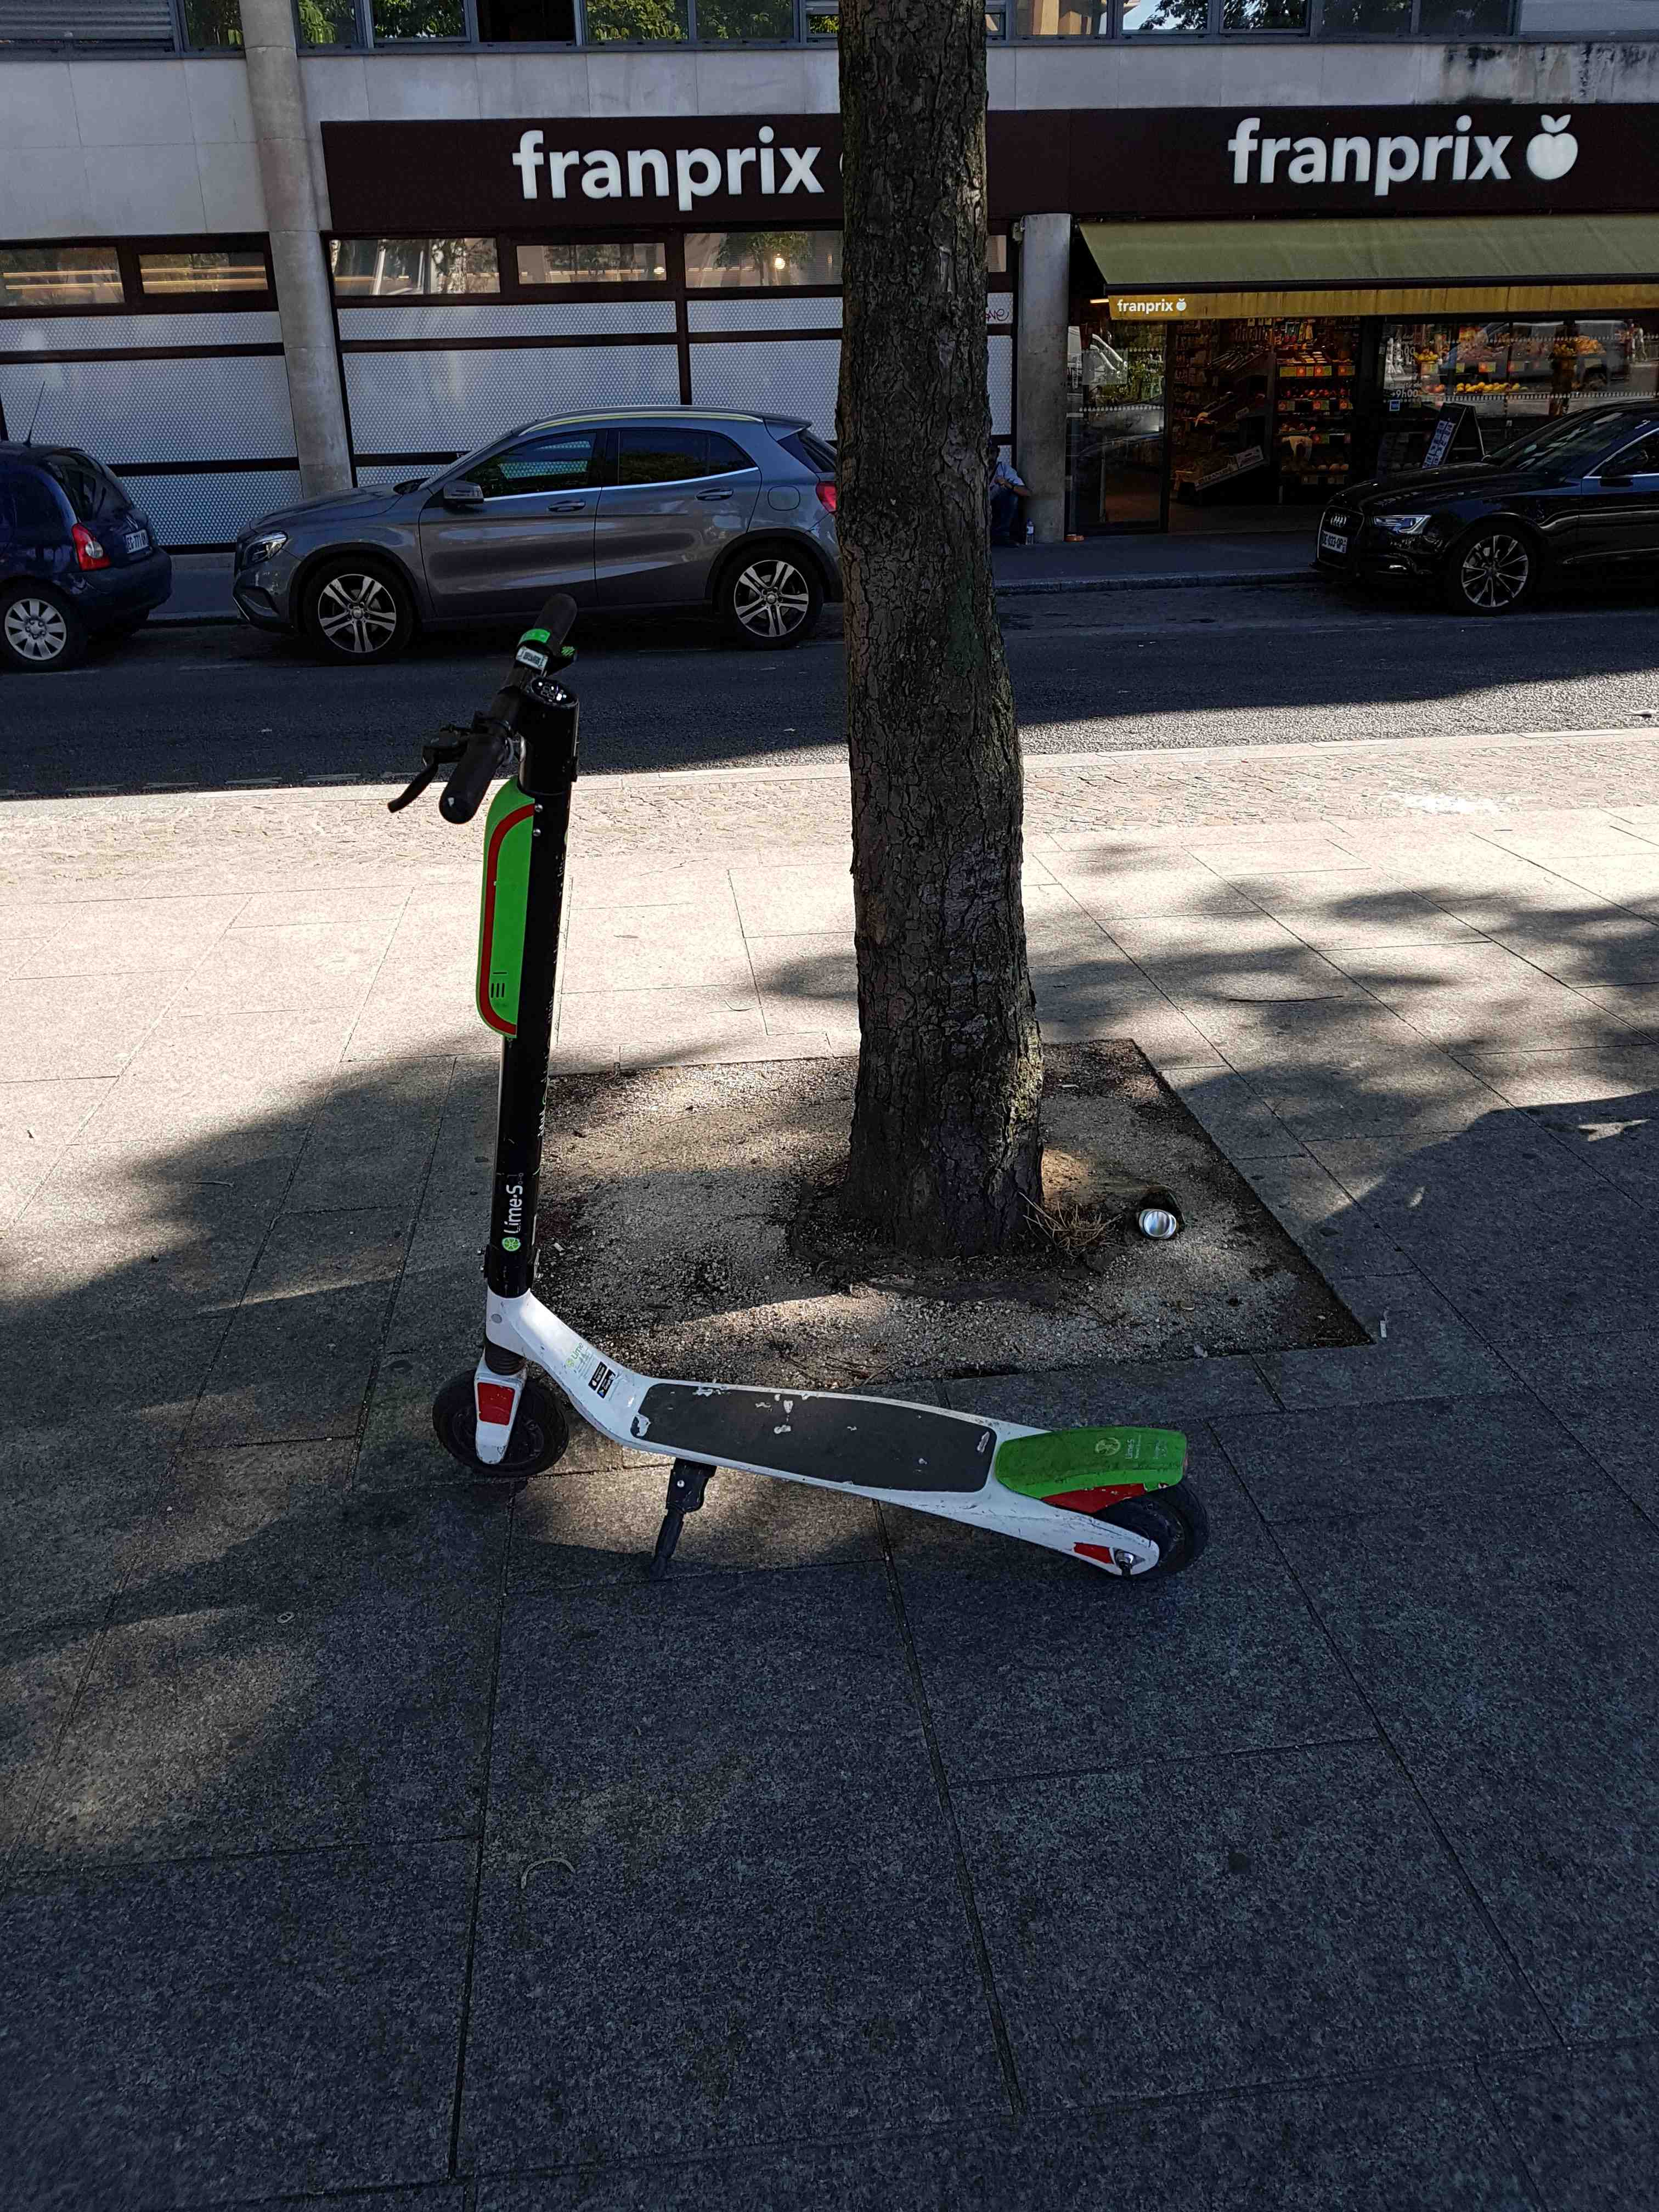scooter: (401, 538, 1220, 1599)
